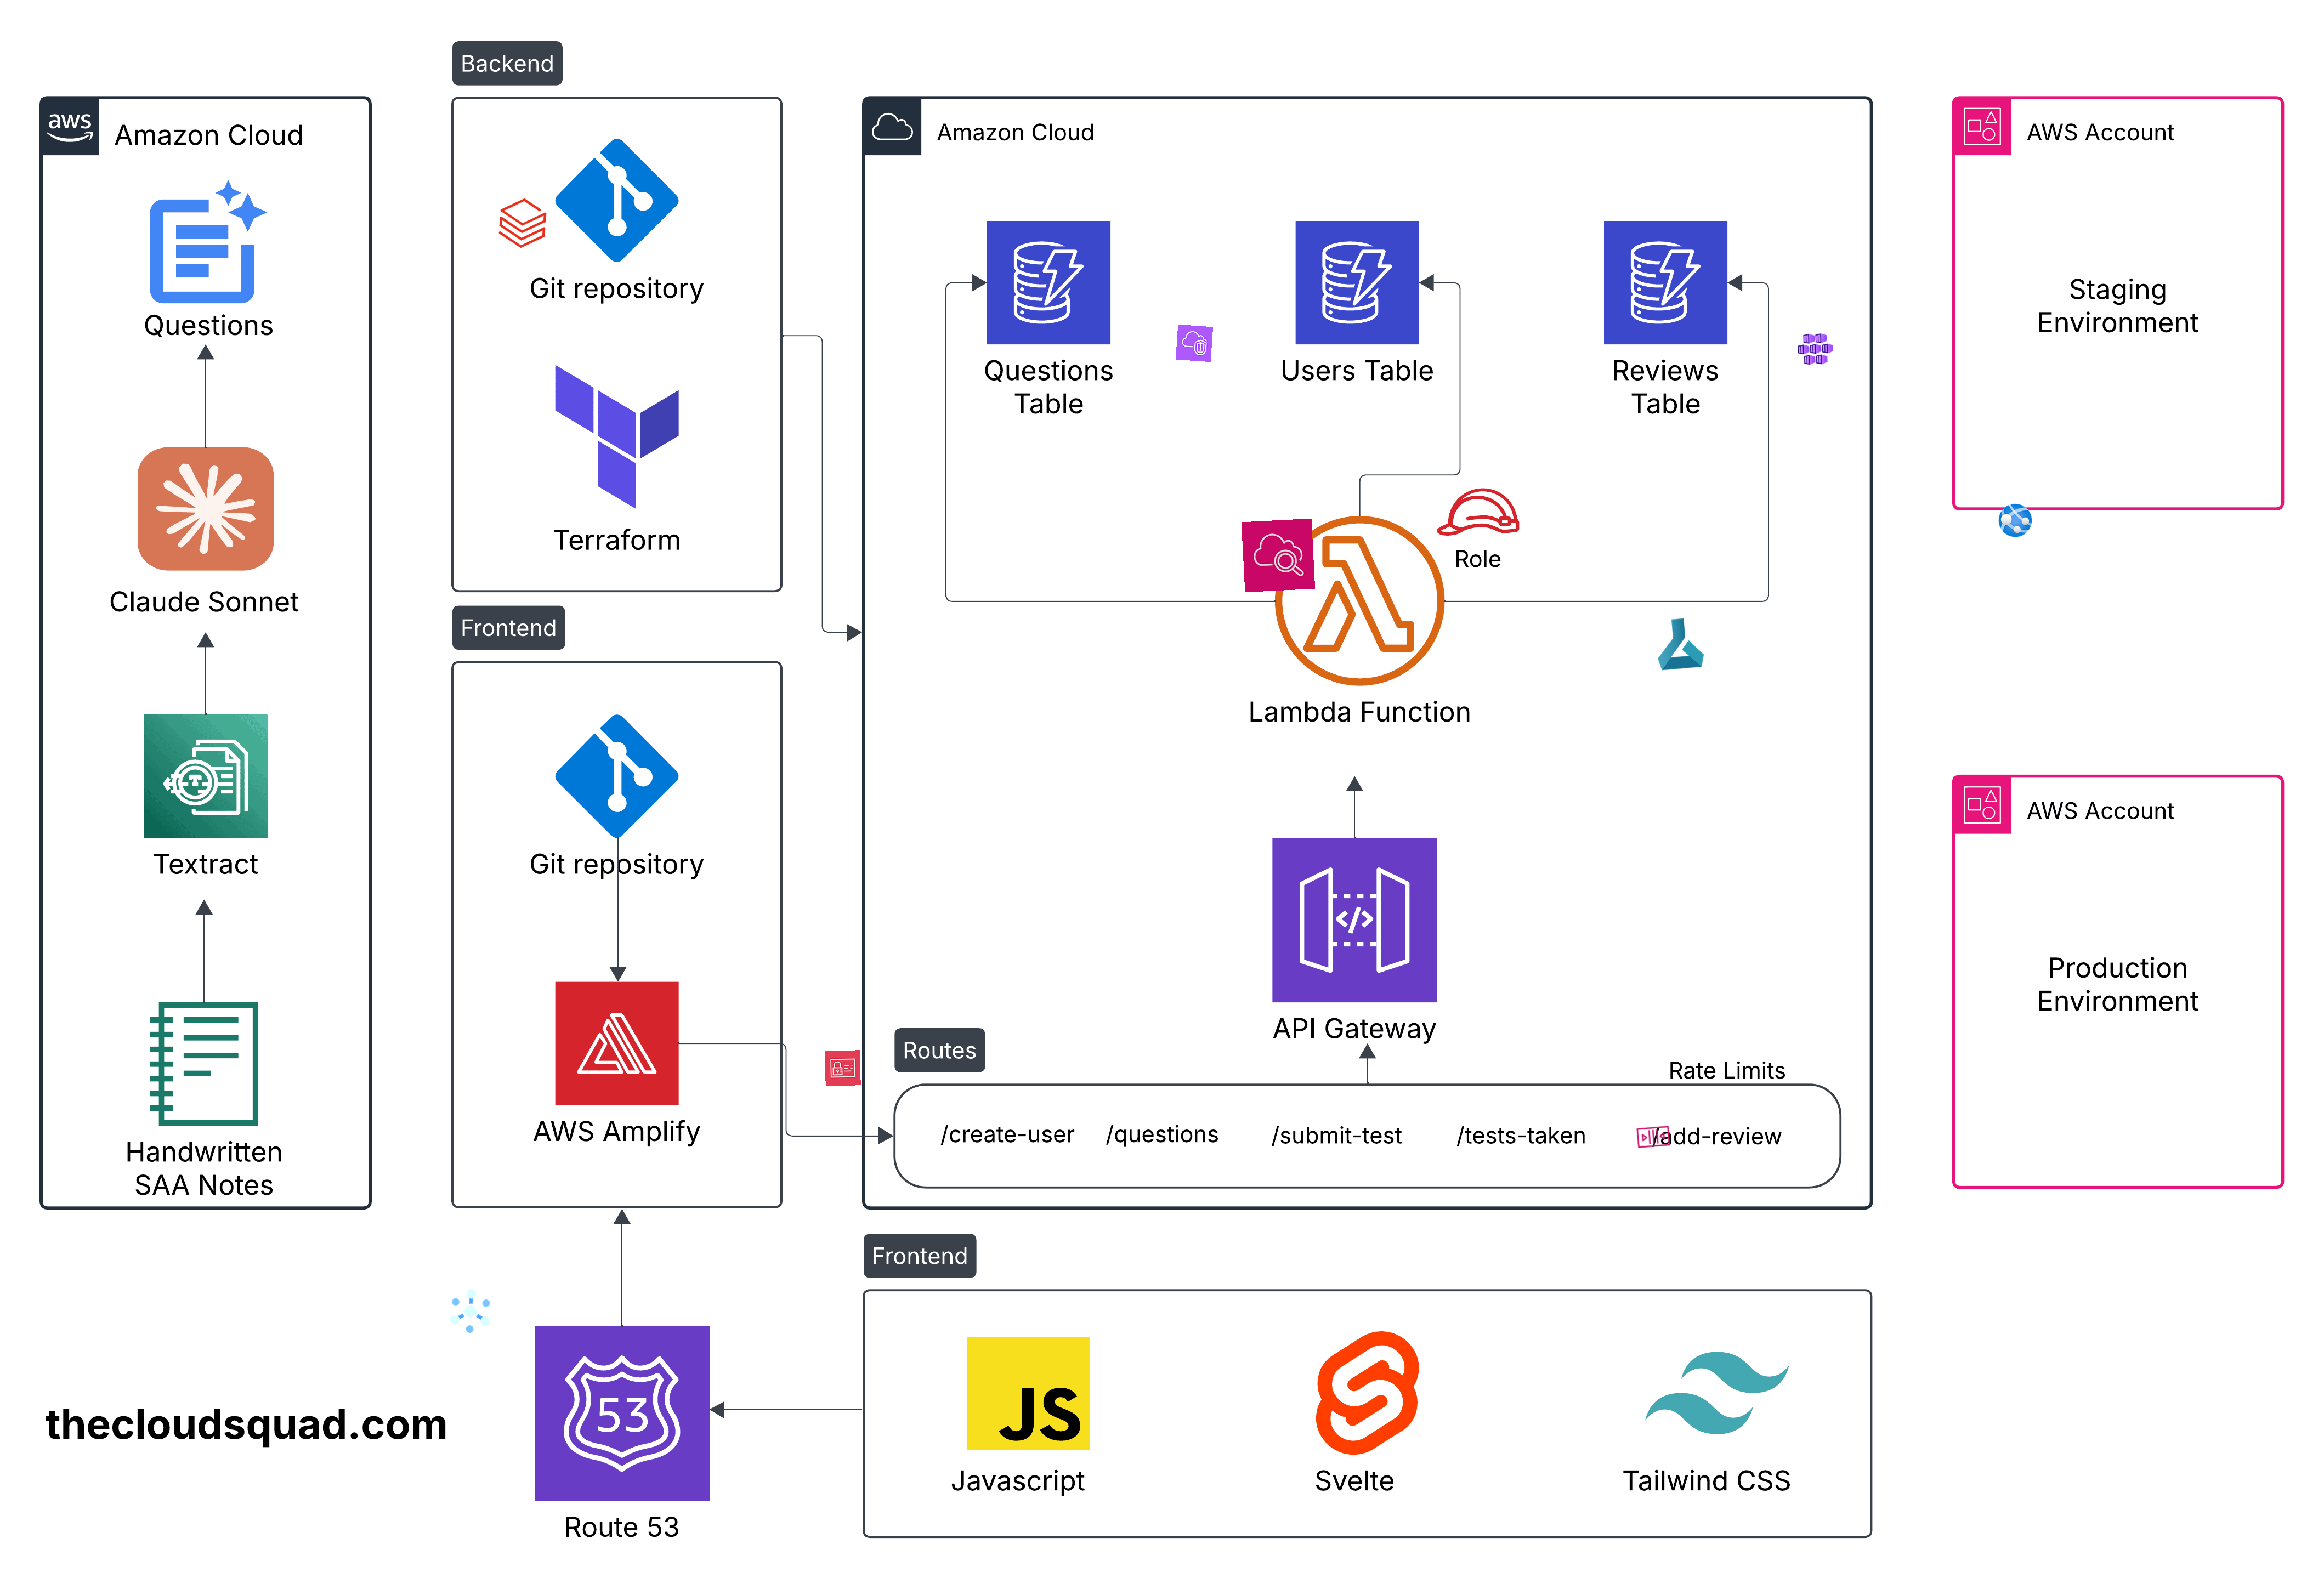aws_amazon_cloudwatch: (1241, 518, 1315, 594)
aws_amazon_virtual_private_cloud: (1174, 324, 1213, 363)
aws_identity_and_access_management: (824, 1050, 861, 1087)
aws_simple_queue_service_queue: (1634, 1117, 1673, 1155)
azure_app_services: (1997, 502, 2033, 539)
azure_databricks: (495, 195, 551, 252)
azure_kubernetes_services: (1798, 329, 1835, 368)
azure_machine_learning: (1651, 615, 1708, 673)
gcp_pubsub: (442, 1284, 498, 1338)
